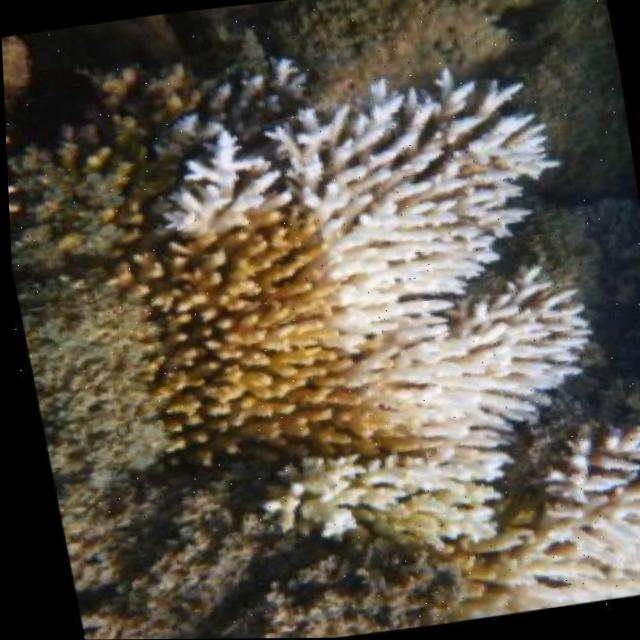Bleached Coral: (291, 63, 640, 465), (239, 379, 640, 639), (106, 39, 360, 226)
